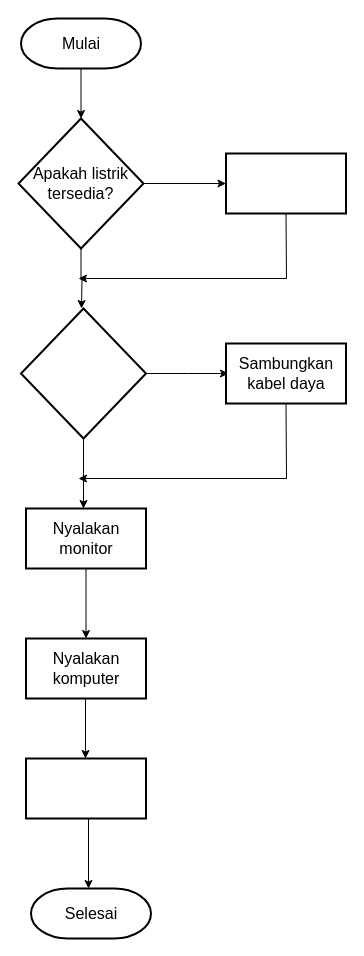
Some shapes in this 364 by 956 pixel diagram are drawn without their labels. The centre of each missing label's shape, as x and y in pixels:
"Apakah kabel tersambung?" goes at (x=83, y=373).
"Nyalakan aliran listrik" goes at (x=285, y=183).
"Tunggu proses booting selesai" goes at (x=85, y=788).
